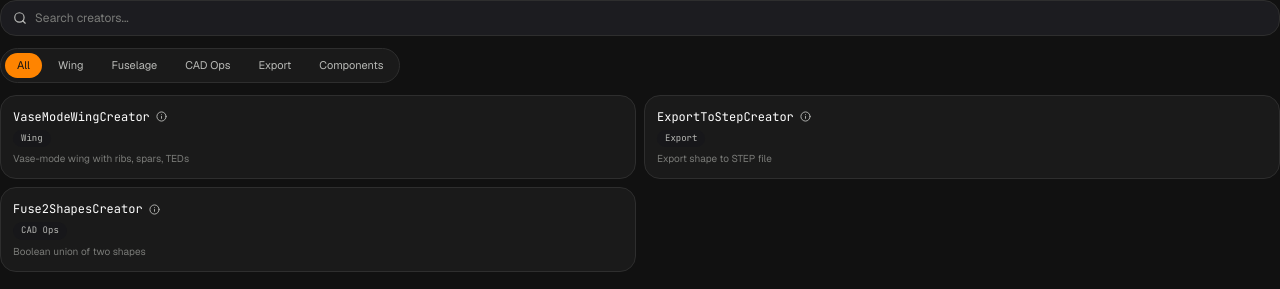
CreatorGallery › filters creators by search text
Type "vase" into the field with placeholder "Search creators..." at point(651, 18), box [35,9,1267,27]
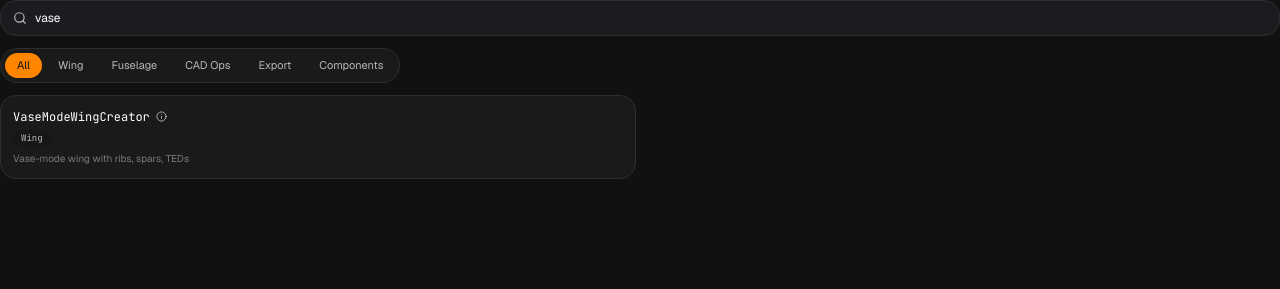
Expected: the text "VaseModeWingCreator" is shown, [13,108,150,126]
Expected: the button "ExportToStepCreator" is gone
